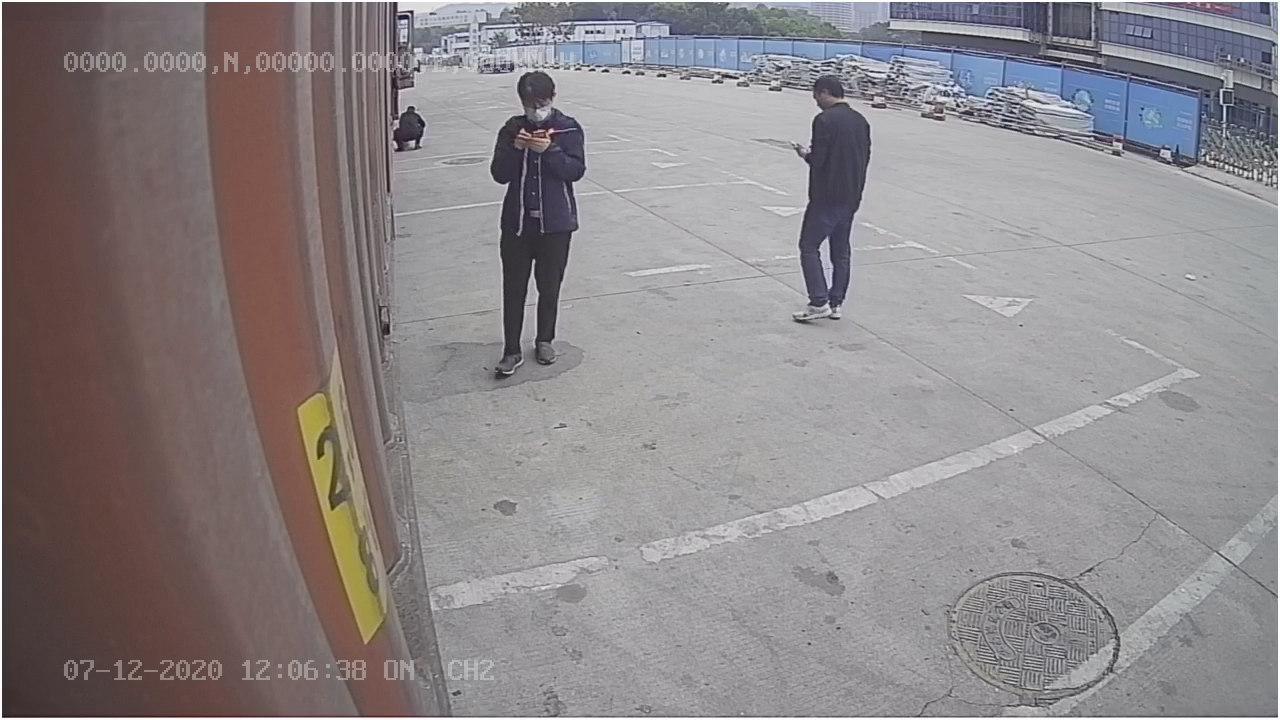person: (490, 70, 589, 378), (789, 73, 872, 329)
